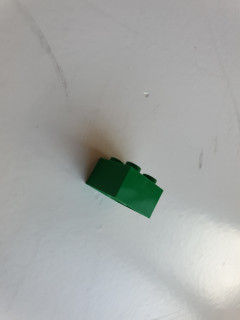2x2 green: (85, 156, 164, 219)
